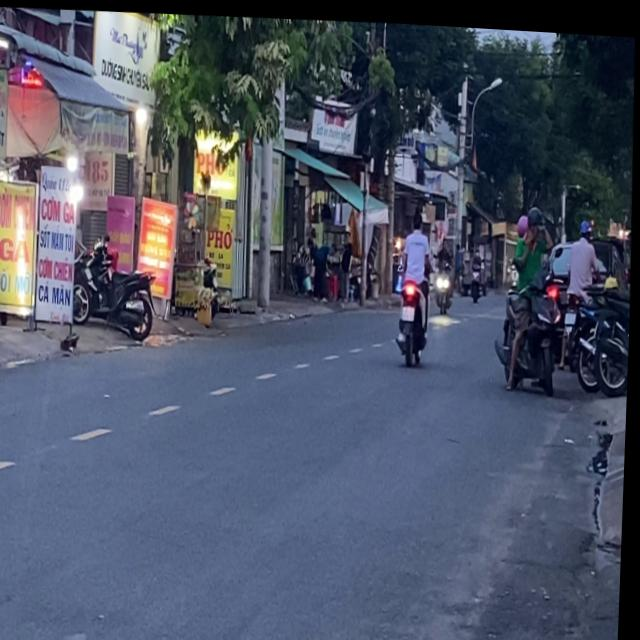helmet: (526, 197, 543, 228), (516, 205, 529, 230)
licenseplate: (494, 195, 564, 389)
